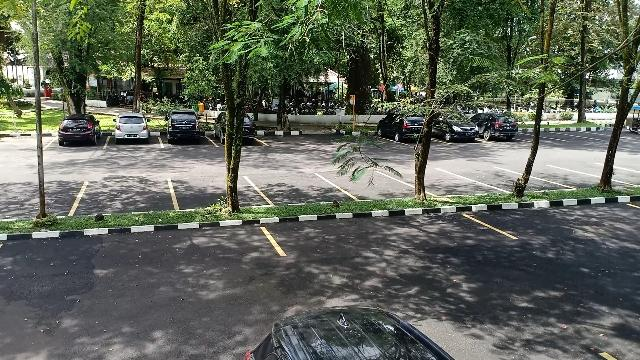empty: (1, 221, 276, 278), (270, 212, 494, 256), (492, 199, 640, 239), (77, 181, 173, 214), (171, 176, 259, 209), (258, 172, 336, 206), (336, 170, 412, 202), (421, 168, 485, 197), (474, 168, 542, 194), (538, 166, 592, 188)
occupied: (50, 118, 106, 148), (108, 117, 162, 147), (162, 115, 208, 147), (432, 114, 481, 144), (376, 117, 420, 146)
